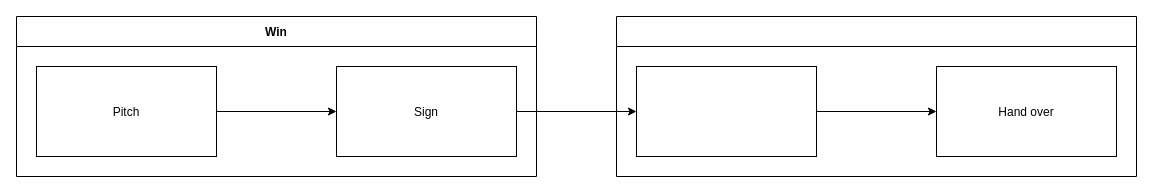
Image size: 1153x193. Some labels were removed from this diagram. Each missing label, with the box of its shape:
Build: (636, 66, 816, 156)
Do: (616, 16, 1136, 176)
